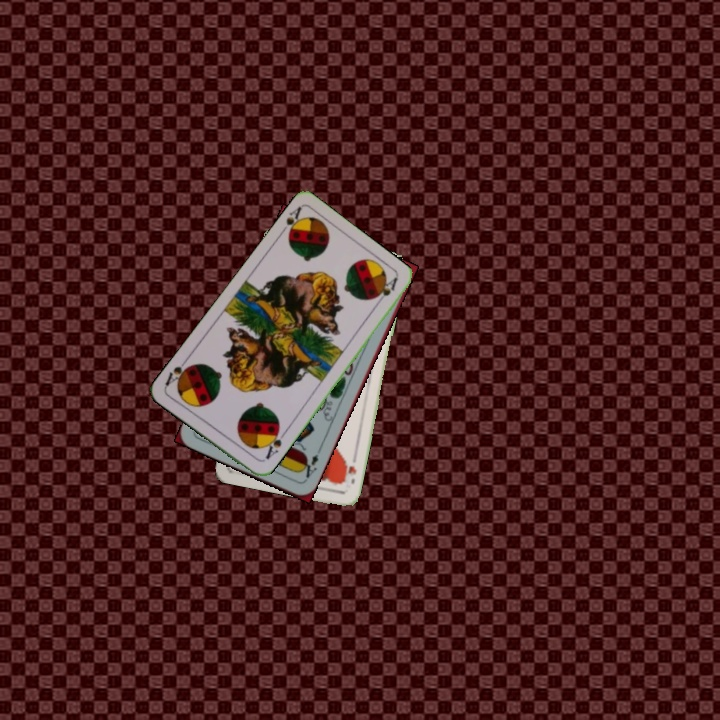EA: (297, 450, 321, 484)
HO: (338, 451, 360, 487)
SA: (275, 202, 307, 242), (260, 425, 288, 462)
